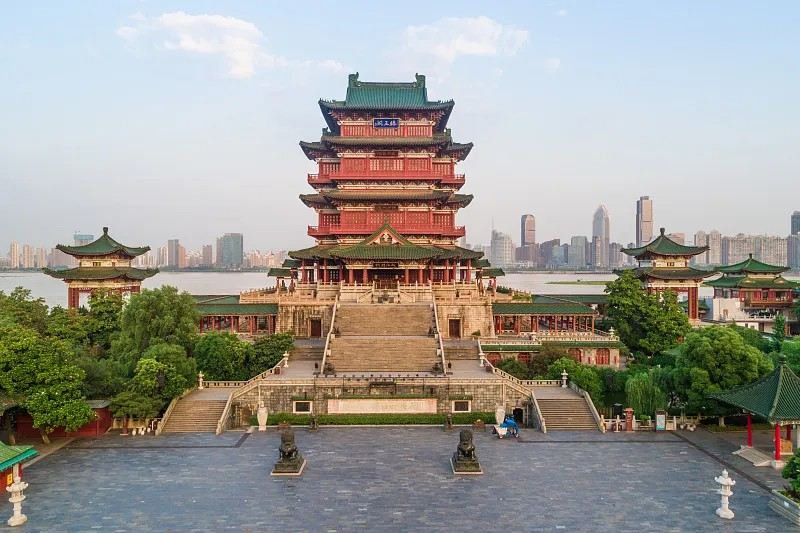Teng: (267, 72, 505, 293)
